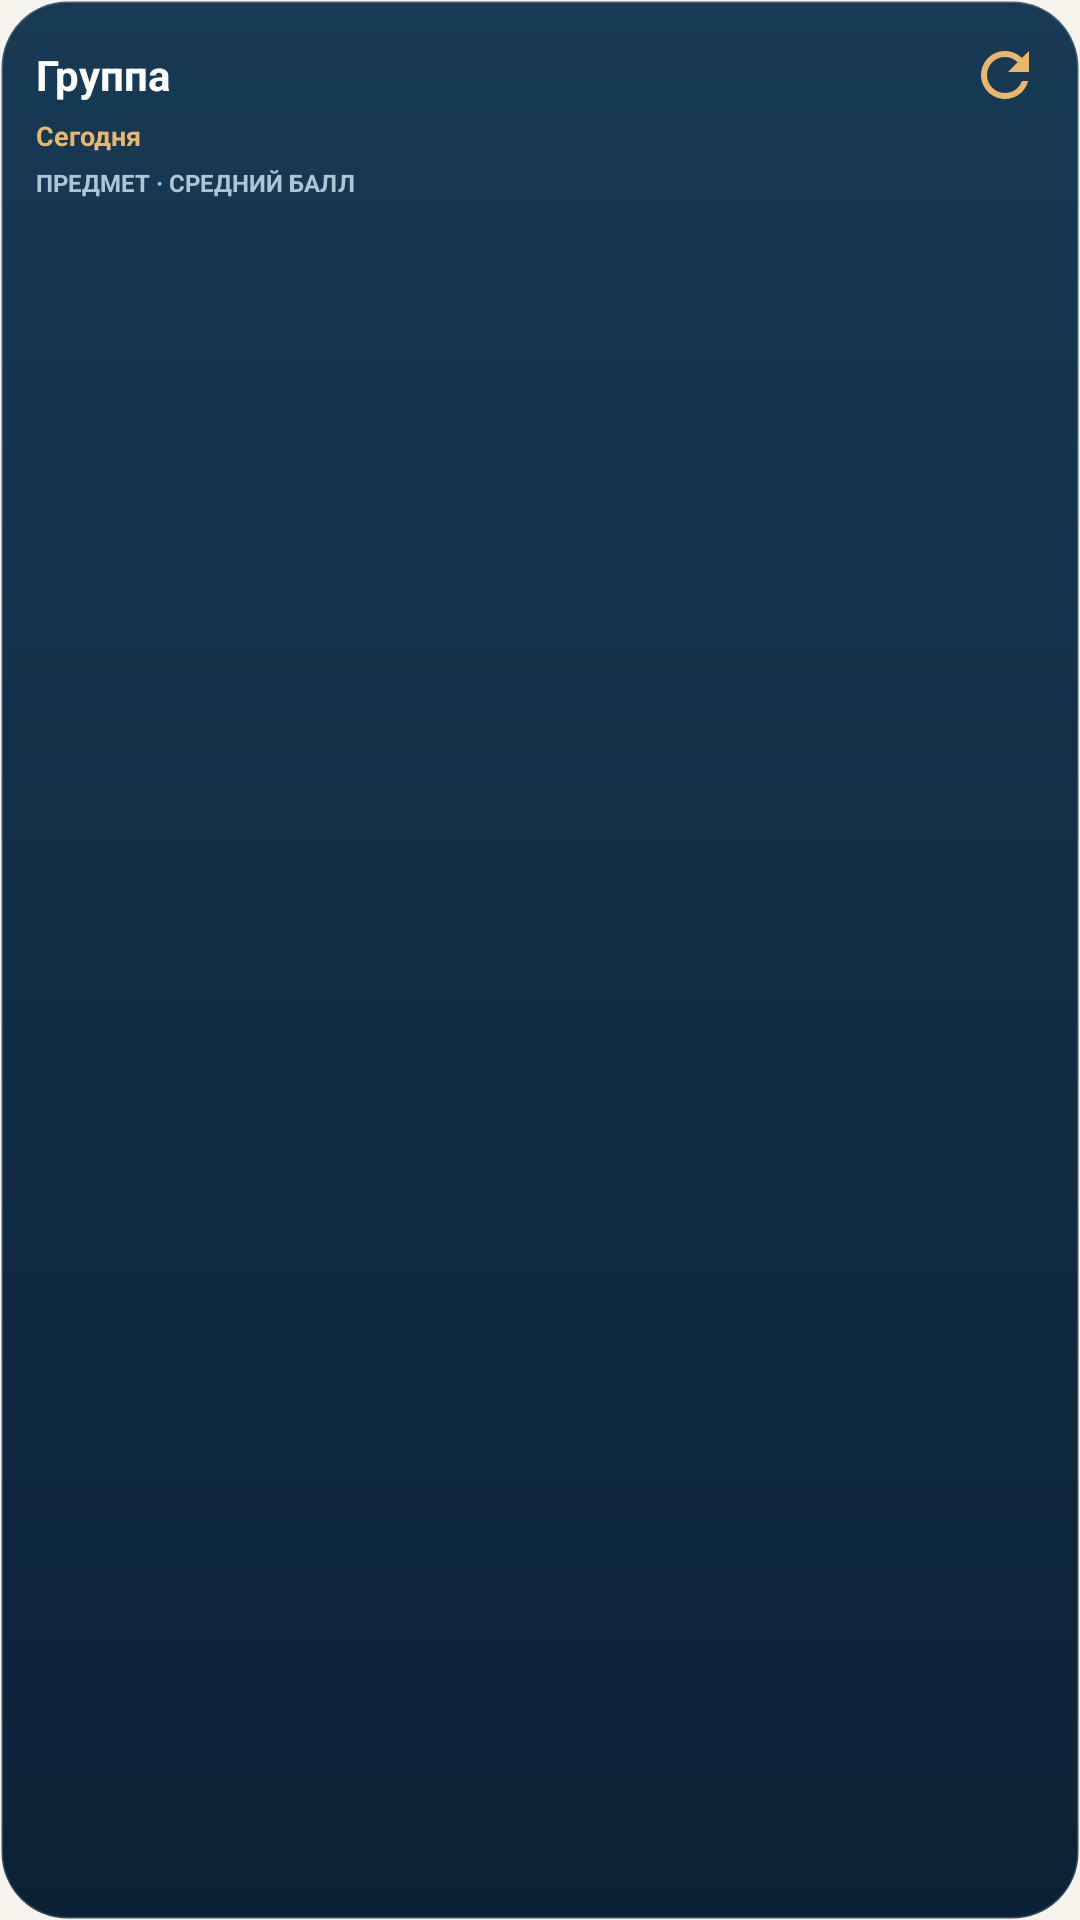

Named icons in this screenshot (1080 x 1920) and their centers, point (x, y):
Обновить виджет: point (1005, 75)
